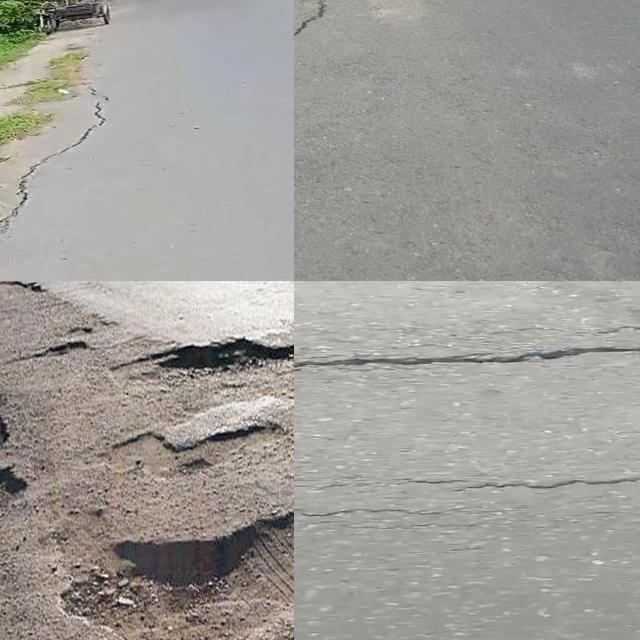Lubang: (66, 511, 294, 640), (153, 340, 293, 392)
Melintang: (294, 320, 640, 385), (428, 463, 640, 508)
Memanjang: (0, 74, 114, 252)
